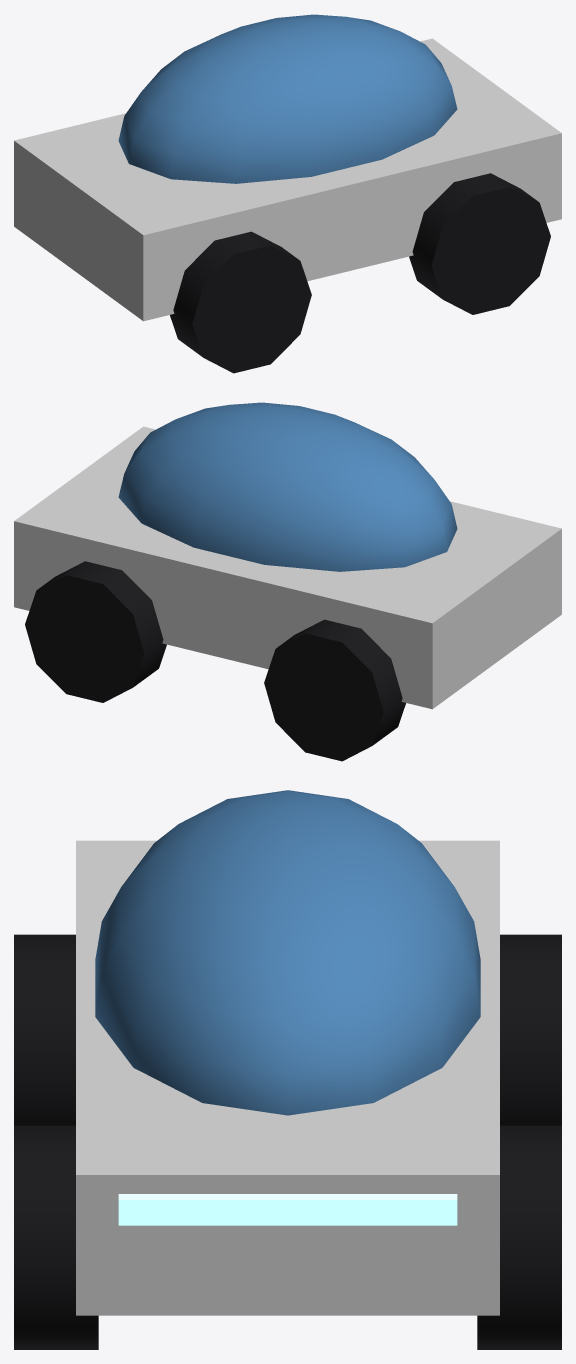
The model's file is car_2018.glb.
3 renders of one model, top to bottom at view 1: azimuth 30°, elevation 25°; view 2: azimuth 150°, elevation 25°; view 3: azimuth 270°, elevation 25°, orthographic. The views are drawn at different scales.
Parts seen in each view (by area): view 1: Body, Canopy, car_w1_1, car_w0_1; view 2: Body, Canopy, car_w1_-1, car_w0_-1; view 3: Body, Canopy, car_w1_-1, car_w1_1, car_w0_-1, car_w0_1, LightBar.
Part boxes in pixels (x1,y1,x2,y2): Body: [14, 38, 561, 321]; Canopy: [118, 14, 457, 183]; car_w1_1: [409, 173, 550, 314]; car_w0_1: [170, 231, 311, 373]; Body: [14, 426, 561, 709]; Canopy: [118, 402, 457, 571]; car_w1_-1: [25, 561, 166, 702]; car_w0_-1: [264, 619, 405, 761]; Body: [76, 840, 499, 1315]; Canopy: [95, 790, 480, 1115]; car_w1_-1: [477, 1125, 561, 1349]; car_w1_1: [14, 1125, 98, 1349]; car_w0_-1: [500, 934, 561, 1125]; car_w0_1: [14, 934, 75, 1125]; LightBar: [118, 1194, 457, 1225].
Size of the model in its own units: 0.285 by 0.158 by 0.194.
